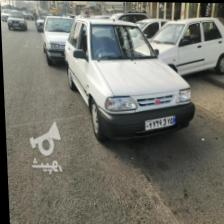plate: (143, 112, 176, 130), (13, 22, 19, 25)
